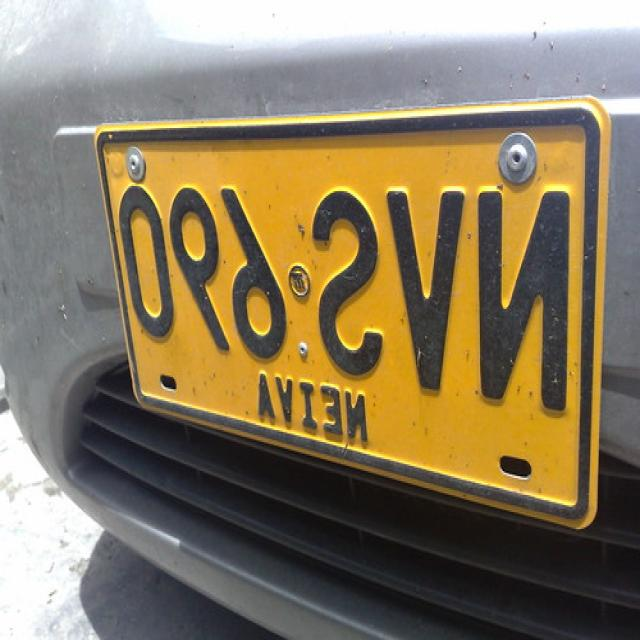placas: (115, 172, 590, 423)
